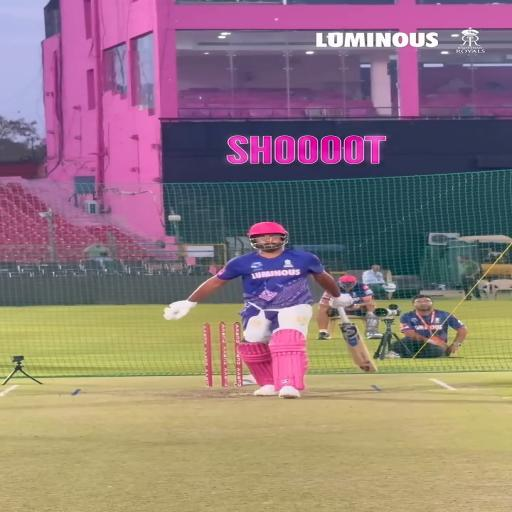Cricket bat: (338, 308, 377, 372)
